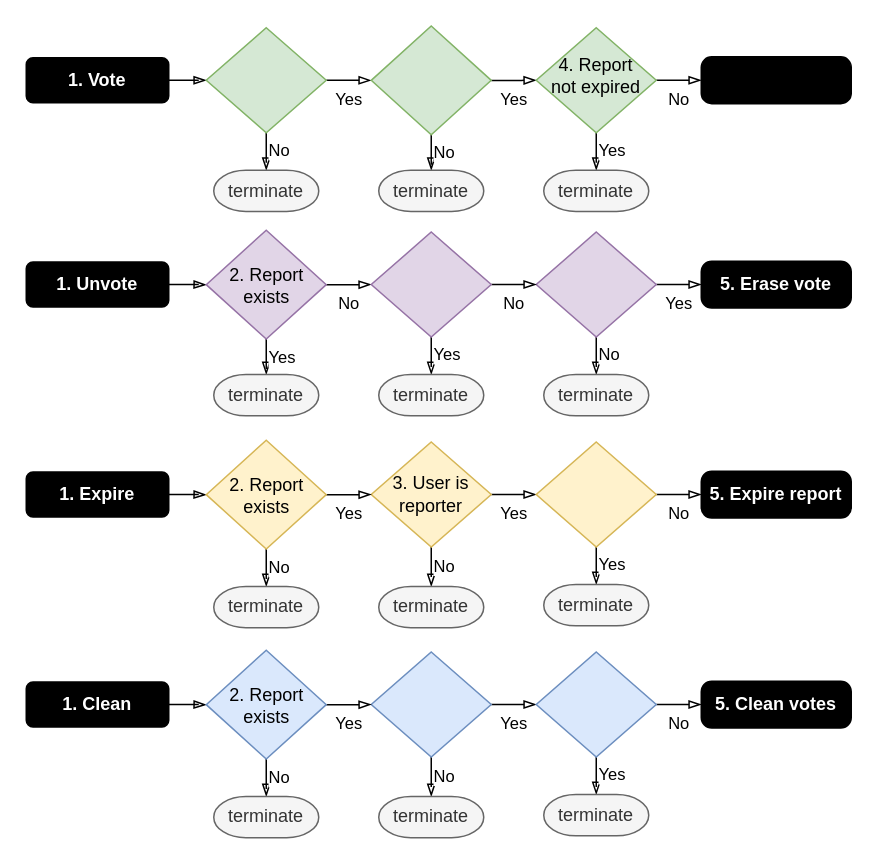
Some shapes in this 878 by 866 pixel diagram are drawn without their labels. The box of each missing label's shape, as (x1, y1, x2, y2) in pixels:
2. User is authorized: (205, 26, 326, 133)
3. Report exists: (370, 24, 491, 135)
3. Report expired: (370, 651, 491, 757)
3. Report in freeze: (370, 231, 491, 337)
4. Report expired: (535, 441, 656, 547)
4. Report in freeze: (535, 651, 656, 757)
4. User is voter: (535, 231, 656, 337)
5. Upsert vote: (700, 55, 851, 104)
